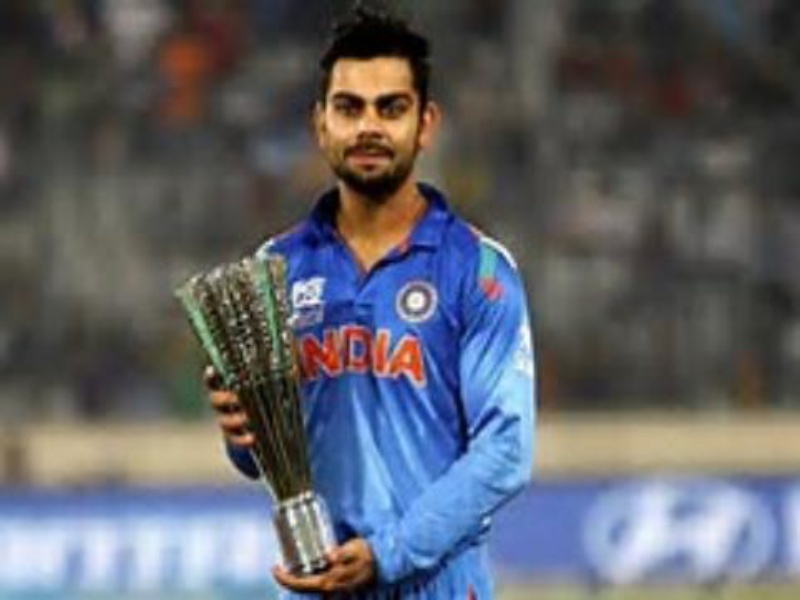TsisyArotava: (297, 22, 453, 199)
